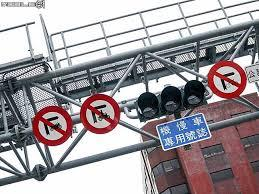no_right_turn: (205, 59, 245, 98)
